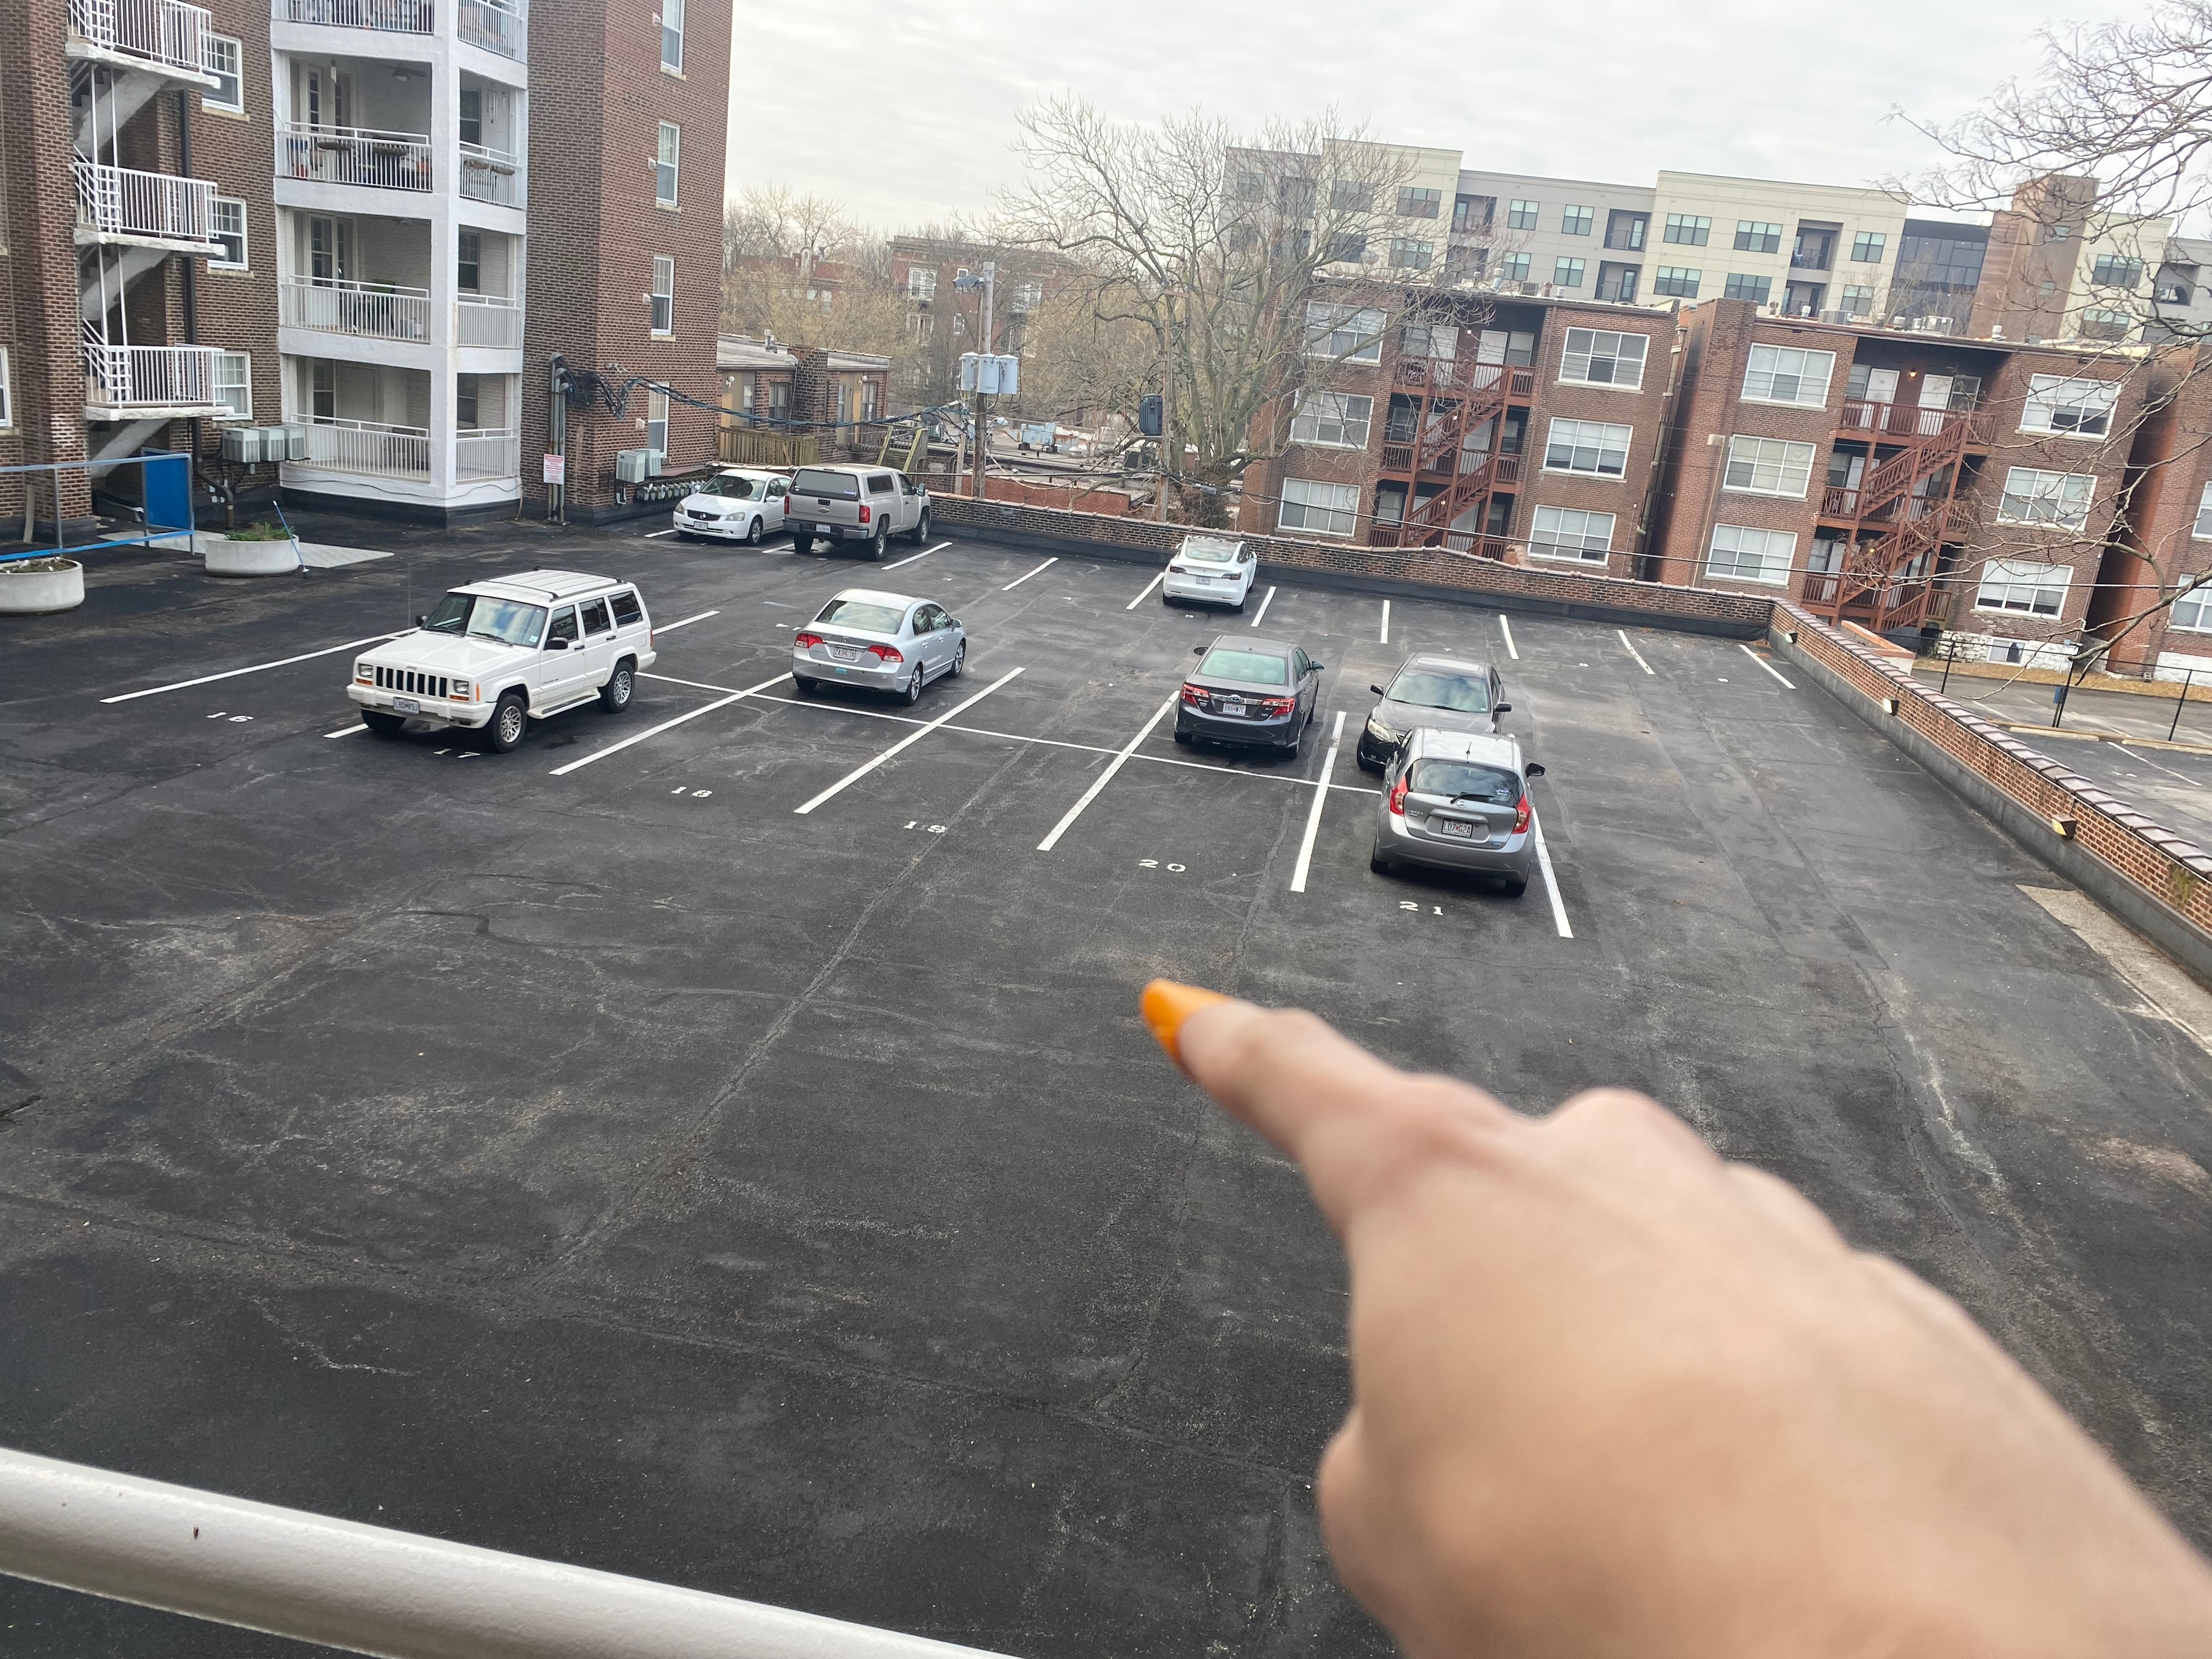fingertip: (1120, 932, 1230, 1056)
